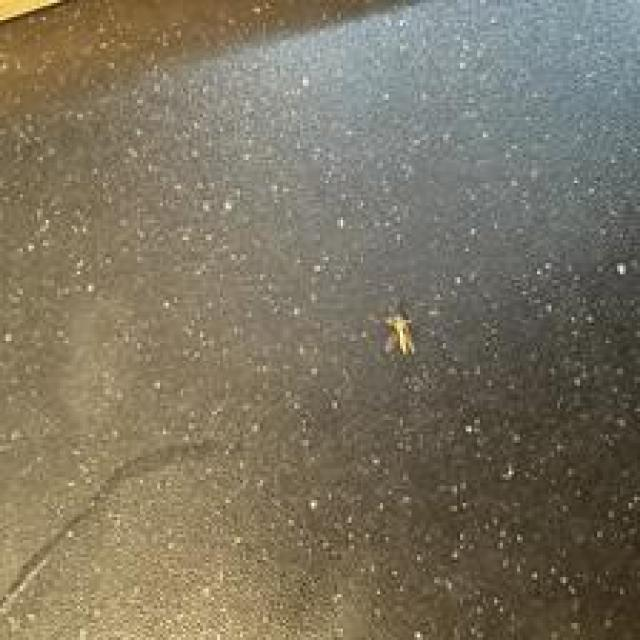Culex: (381, 310, 416, 356)
